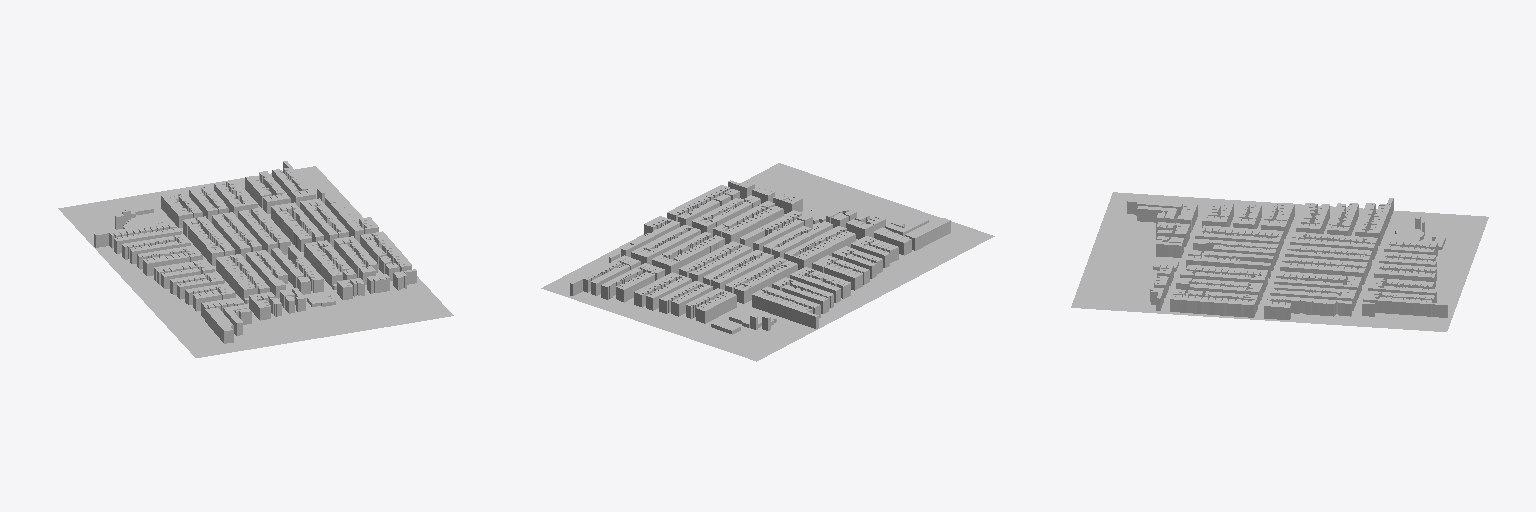
Rendered from test3legacy.obj.
The picture shows the model from 3 angles: view 1: azimuth 30°, elevation 25°; view 2: azimuth 150°, elevation 25°; view 3: azimuth 270°, elevation 25°; orthographic projection.
Visible parts, largest first — view 1: Areas, Plane; view 2: Areas, Plane; view 3: Areas, Plane.
Boxes of the visible parts, box(x1,y1,x2,y2) form: Areas: box(94, 161, 416, 343); Plane: box(58, 166, 453, 357); Areas: box(570, 180, 950, 349); Plane: box(541, 163, 994, 361); Areas: box(1127, 197, 1447, 319); Plane: box(1071, 192, 1488, 331).
Bounding box in the file's own units: 479 × 20 × 604.